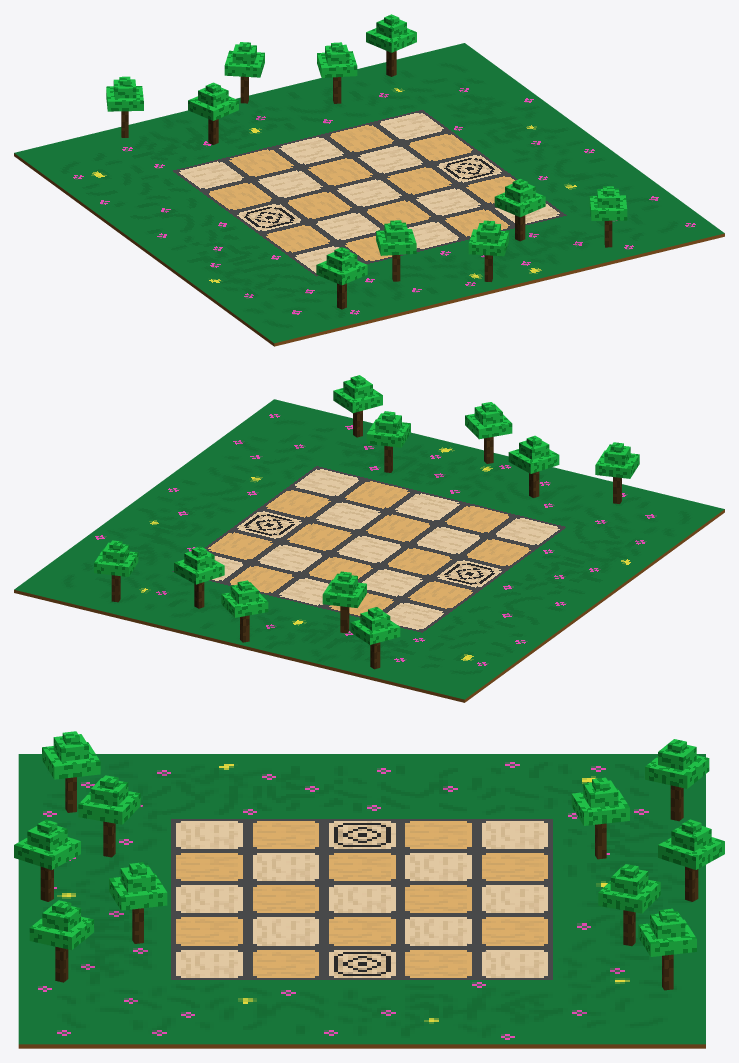
File: board.gltf
3 renders of one model, top to bottom at view 1: azimuth 30°, elevation 25°; view 2: azimuth 150°, elevation 25°; view 3: azimuth 270°, elevation 25°, orthographic. The views are drawn at different scales.
Visible parts, largest first — view 1: cube (×11); view 2: cube (×11); view 3: cube (×21).
Part boxes in pixels (left/top/right/bottom): cube (×11): left=14, top=28, right=724, bottom=346; cube (×11): left=14, top=388, right=724, bottom=702; cube (×21): left=14, top=734, right=724, bottom=1048.
Bounding box in the file's own units: 18 × 2.31 × 18.63.
Materials: 3 (3 with a texture image).
